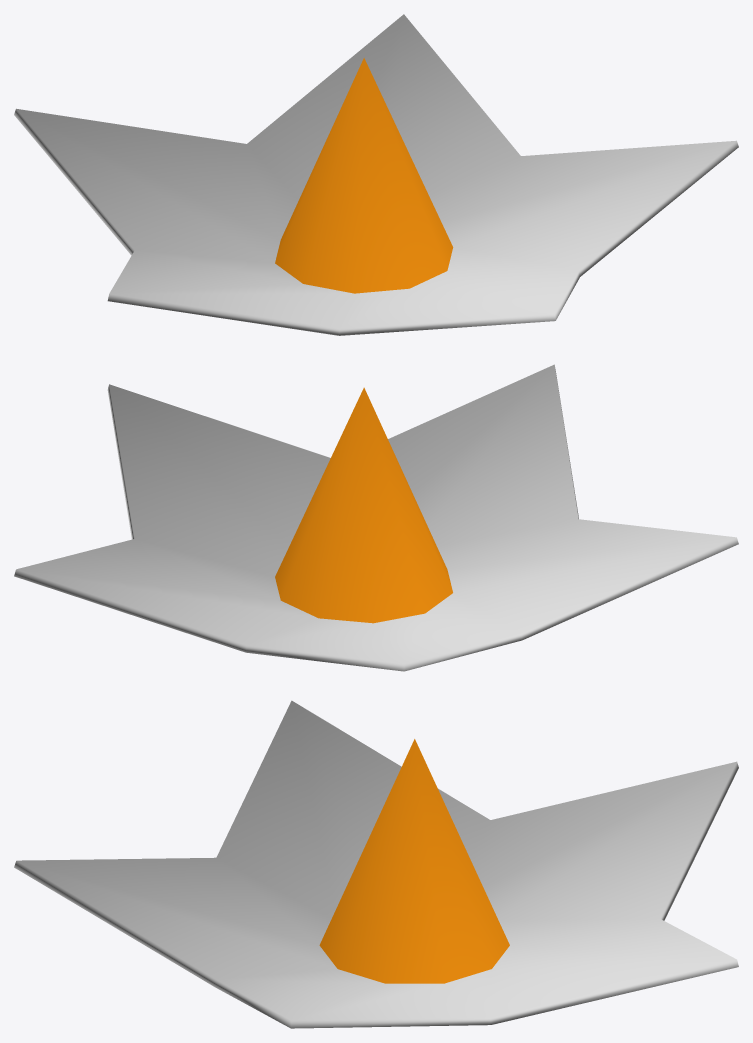
The model's file is StarFlower.fbx.
3 renders of one model, top to bottom at view 1: azimuth 30°, elevation 25°; view 2: azimuth 150°, elevation 25°; view 3: azimuth 270°, elevation 25°, orthographic. The views are drawn at different scales.
Parts seen in each view (by area): view 1: Circle; view 2: Circle; view 3: Circle.
Boxes of the visible parts, x1,y1,x2,y2 form: Circle: (14, 14, 738, 335); Circle: (14, 364, 738, 671); Circle: (14, 700, 738, 1028).
Size of the model in its own units: 182 by 191 by 65.84.
